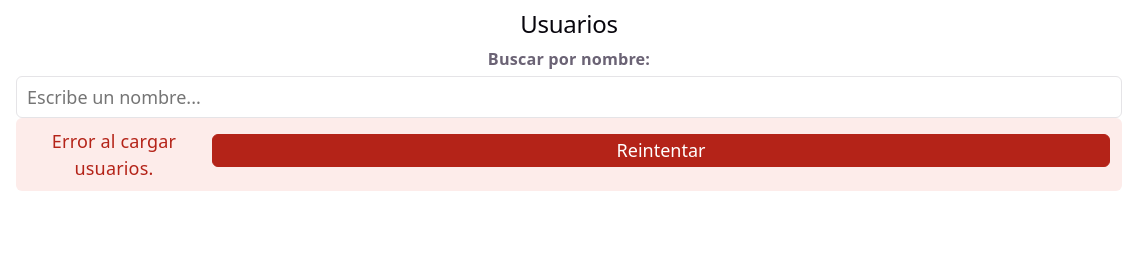
Test: UserList › muestra un error si la API falla y permite reintentar
Check: the text "Error al cargar usuarios." is shown, box [52, 129, 176, 180]
What coordinates should you click on to do the following:
click the button "Reintentar"
I would click on:
 (661, 151)
Its box is [212, 134, 1110, 167].
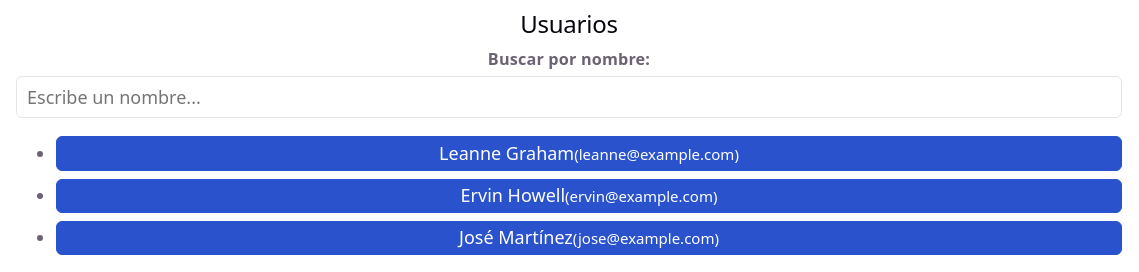
Check: the button "Leanne Graham (leanne@example.com)" is shown, box [56, 136, 1122, 170]
